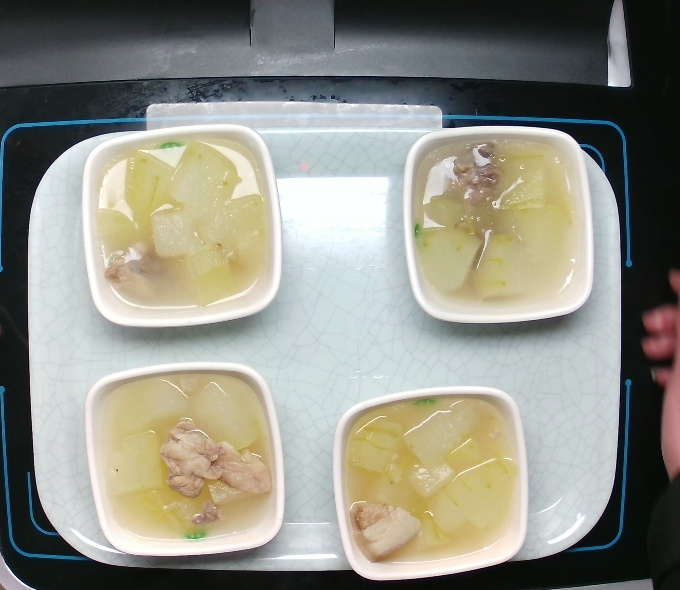wcq-DongGuaZhuRouTang: (90, 373, 273, 546), (343, 398, 526, 571), (88, 136, 271, 309), (406, 139, 589, 312)
